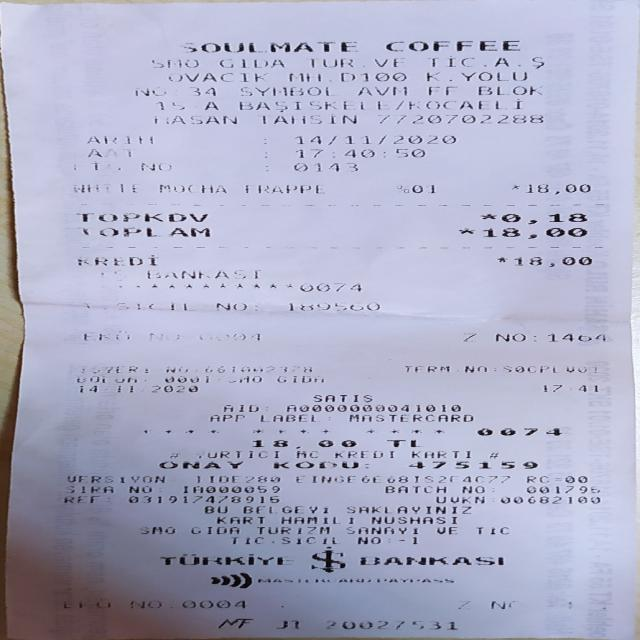text: (359, 548, 500, 572), (183, 39, 356, 53), (296, 474, 511, 484), (237, 99, 388, 112), (376, 112, 539, 124), (292, 133, 453, 145), (384, 38, 517, 52), (326, 618, 454, 632), (156, 554, 295, 566), (75, 211, 206, 223), (285, 403, 459, 412), (294, 147, 422, 159), (403, 98, 519, 111), (127, 494, 277, 504), (78, 226, 208, 237), (406, 458, 535, 469), (288, 70, 404, 82), (481, 226, 584, 239), (145, 268, 259, 279), (348, 413, 472, 423), (288, 300, 378, 313), (167, 70, 263, 82), (74, 384, 200, 393), (346, 505, 470, 514), (261, 113, 353, 125), (492, 494, 598, 504), (240, 85, 327, 97), (244, 182, 324, 195), (500, 212, 586, 224), (476, 425, 560, 437), (200, 365, 312, 374), (64, 474, 161, 484), (73, 255, 160, 266), (365, 425, 442, 437), (157, 459, 240, 470), (217, 56, 282, 70), (272, 458, 352, 469), (517, 255, 590, 267), (158, 182, 225, 195), (502, 364, 598, 373), (511, 184, 597, 194), (370, 514, 454, 524), (258, 524, 328, 536), (346, 524, 416, 536), (476, 84, 540, 97), (67, 183, 140, 194), (182, 485, 278, 493), (242, 505, 326, 514), (294, 160, 352, 173), (525, 484, 598, 494), (191, 475, 280, 483), (462, 70, 521, 82), (253, 576, 370, 582), (194, 450, 281, 458), (150, 56, 198, 70), (195, 332, 262, 342), (300, 281, 360, 292), (112, 302, 194, 310), (376, 576, 455, 584), (180, 600, 250, 609), (384, 484, 445, 494), (279, 514, 340, 524), (427, 56, 477, 68), (73, 374, 139, 383), (80, 136, 154, 144), (492, 57, 545, 68), (314, 56, 355, 70), (189, 524, 236, 536), (68, 365, 138, 373), (85, 148, 140, 158), (259, 413, 314, 423), (65, 161, 120, 171), (279, 536, 340, 545), (542, 383, 596, 393), (77, 331, 131, 341), (59, 599, 113, 609), (332, 450, 398, 458), (411, 450, 469, 459), (548, 333, 606, 342), (129, 85, 168, 98), (358, 86, 407, 96), (436, 494, 484, 504), (215, 514, 263, 524), (313, 394, 370, 402), (316, 437, 354, 449), (402, 364, 450, 373), (139, 524, 174, 536), (252, 281, 293, 291), (159, 374, 210, 382), (58, 494, 98, 504), (250, 428, 330, 433), (140, 429, 220, 434), (274, 375, 331, 382), (249, 438, 285, 449), (66, 485, 112, 493), (371, 57, 404, 68), (384, 437, 417, 448), (476, 524, 506, 536), (92, 270, 128, 280), (154, 100, 183, 112), (209, 413, 243, 423), (427, 70, 455, 82), (140, 160, 168, 172), (423, 85, 456, 95), (488, 600, 521, 610), (189, 85, 214, 98), (147, 332, 182, 341), (223, 403, 257, 412), (229, 536, 263, 545), (127, 600, 163, 608), (157, 366, 191, 374), (213, 302, 246, 310), (494, 332, 520, 342), (274, 619, 300, 629), (292, 450, 320, 459), (229, 375, 260, 383), (408, 184, 434, 193), (436, 524, 455, 536), (524, 474, 546, 484), (564, 474, 586, 484), (460, 484, 482, 494), (204, 505, 226, 514), (358, 55, 372, 69), (354, 537, 382, 544), (201, 99, 216, 112), (457, 226, 472, 239), (129, 485, 151, 493), (395, 98, 407, 112), (480, 212, 494, 224), (397, 536, 415, 545), (460, 366, 487, 372), (462, 332, 474, 342), (456, 601, 471, 609), (391, 185, 408, 192), (76, 302, 92, 309), (496, 255, 505, 267), (169, 450, 179, 459), (489, 450, 497, 459), (362, 458, 368, 469), (491, 365, 499, 373), (250, 300, 255, 312), (533, 332, 539, 342), (294, 437, 299, 449), (106, 494, 112, 504), (262, 152, 269, 158), (262, 138, 268, 144), (266, 161, 268, 172), (327, 413, 329, 423), (266, 403, 268, 412)
